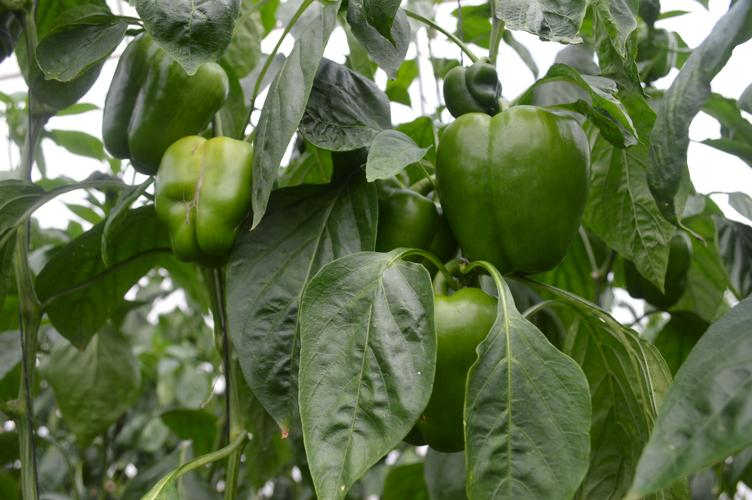BellPepper: (432, 111, 590, 275), (99, 33, 226, 166), (402, 288, 500, 446), (154, 138, 248, 261), (368, 186, 455, 272), (625, 230, 689, 311), (437, 66, 492, 115)
